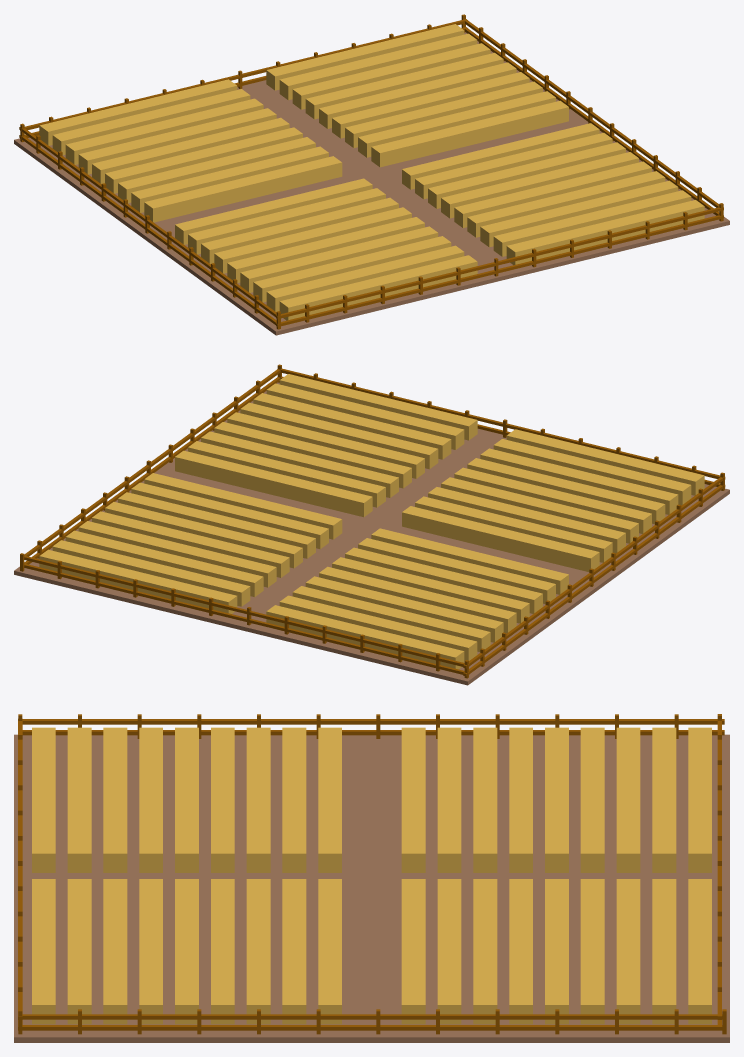
The model's file is Farmfield_custom.fbx.
3 views of the same model, one above another, from view 1: azimuth 30°, elevation 25°; view 2: azimuth 150°, elevation 25°; view 3: azimuth 270°, elevation 25° (orthographic). The views are drawn at different scales.
Visible parts, largest first — view 1: Plant.047; view 2: Plant.047; view 3: Plant.047.
Boxes of the visible parts, <box> form: Plant.047: <box>14,14,729,335</box>; Plant.047: <box>14,364,729,685</box>; Plant.047: <box>14,714,729,1042</box>.
Size of the model in its own units: 1200 by 52.54 by 1200.
